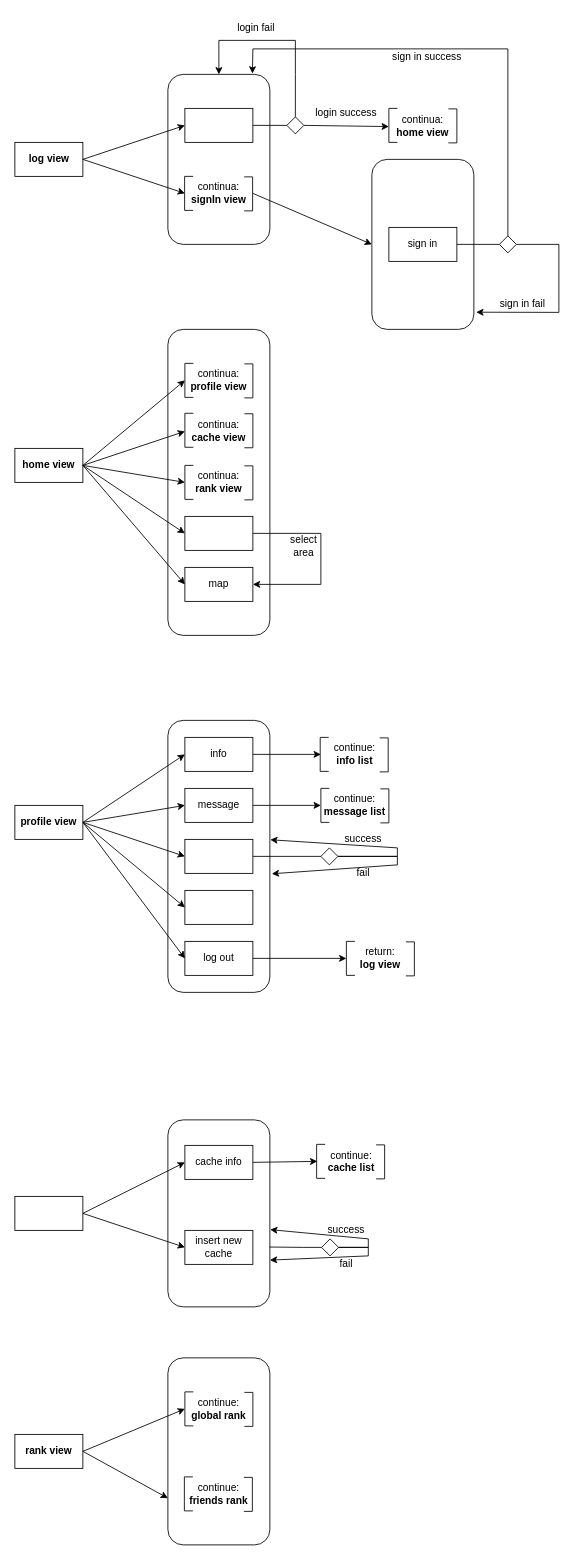
Some shapes in this 581 by 1560 pixel diagram are drawn without their labels. The centre of each missing label's shape, as x and y in pixels:
"aggiungi amico" belongs at (218,856).
"app feedback" belongs at (218,907).
"cache view" belongs at (48,1213).
"login" belongs at (218,125).
"search" belongs at (218,533).
